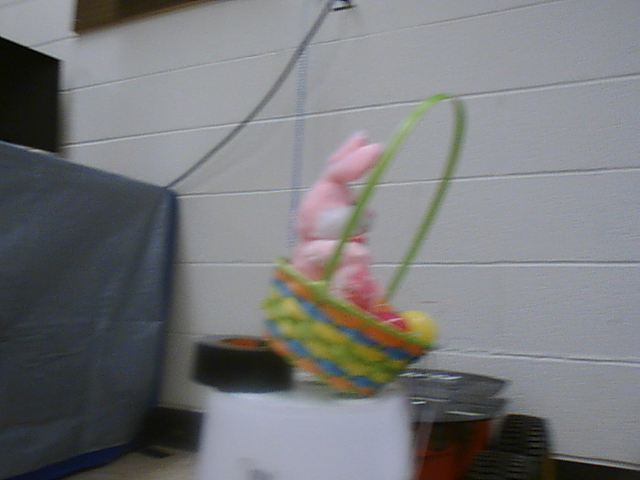bunny: (250, 89, 467, 404)
